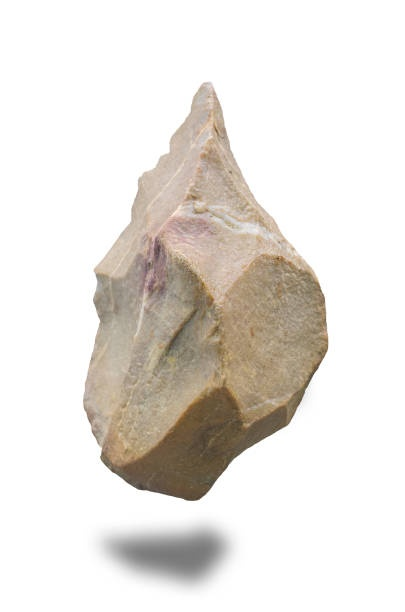obstacle: (84, 83, 327, 499)
